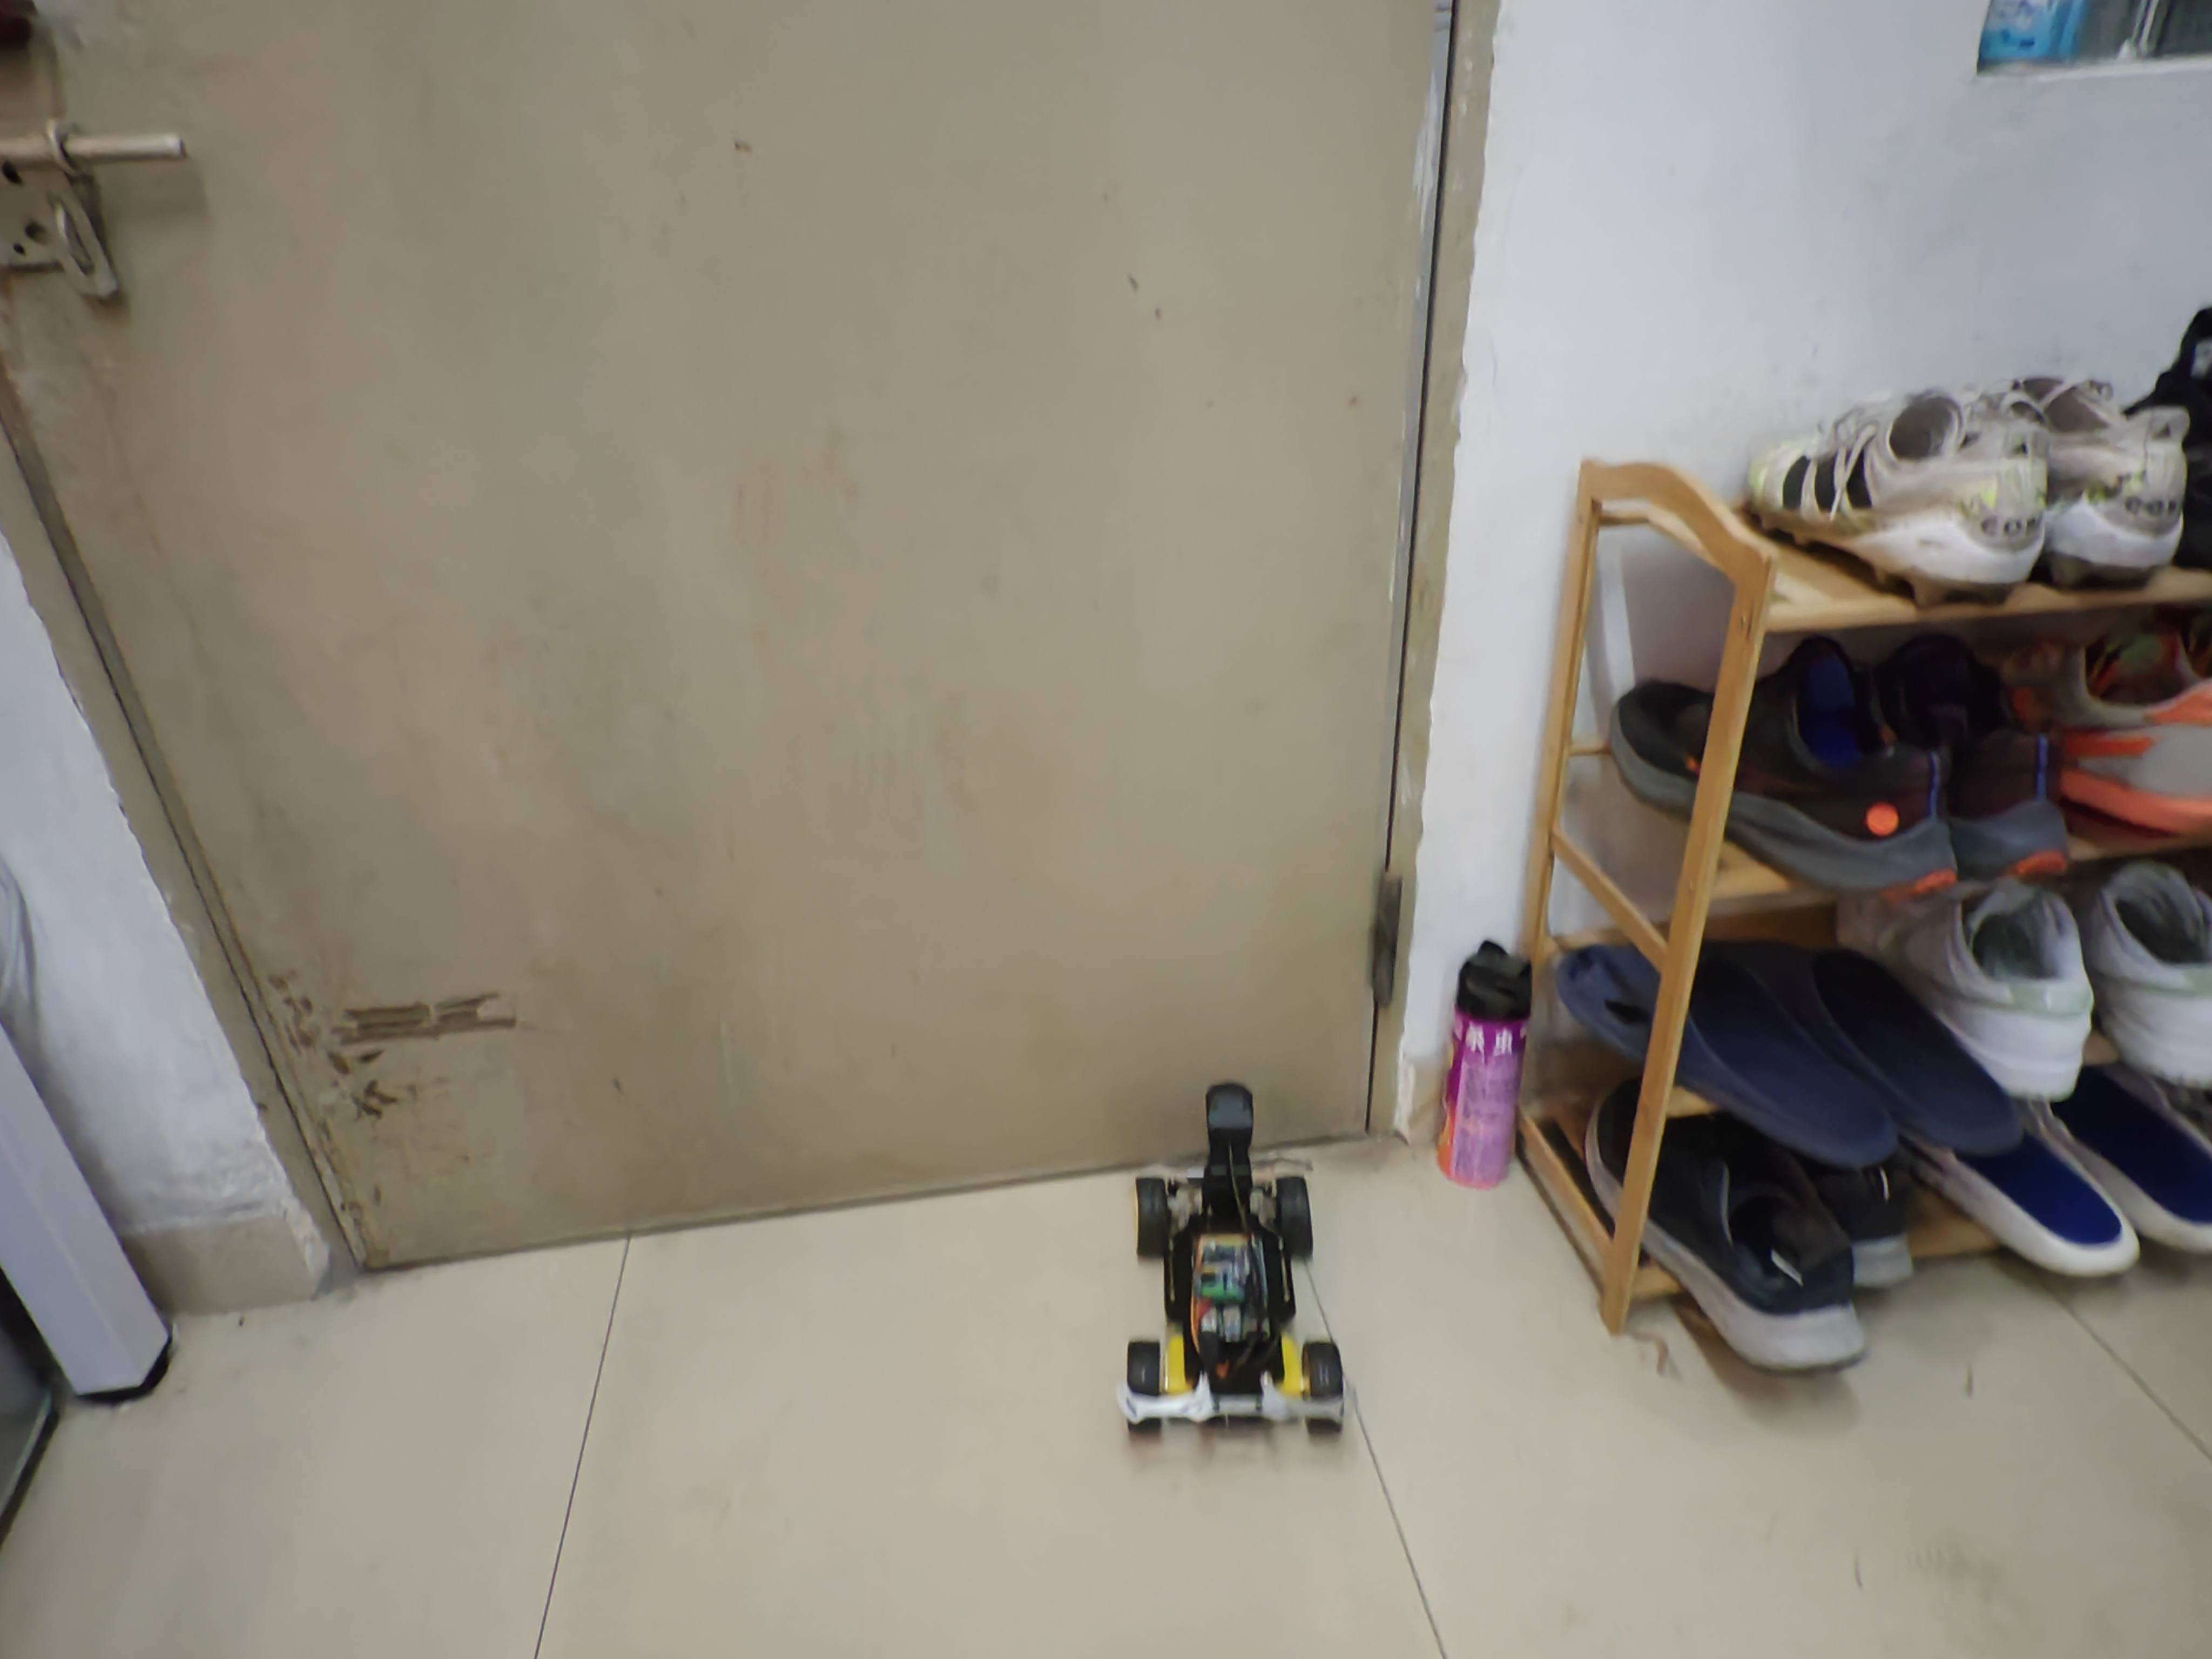car: (1118, 1063, 1360, 1450)
